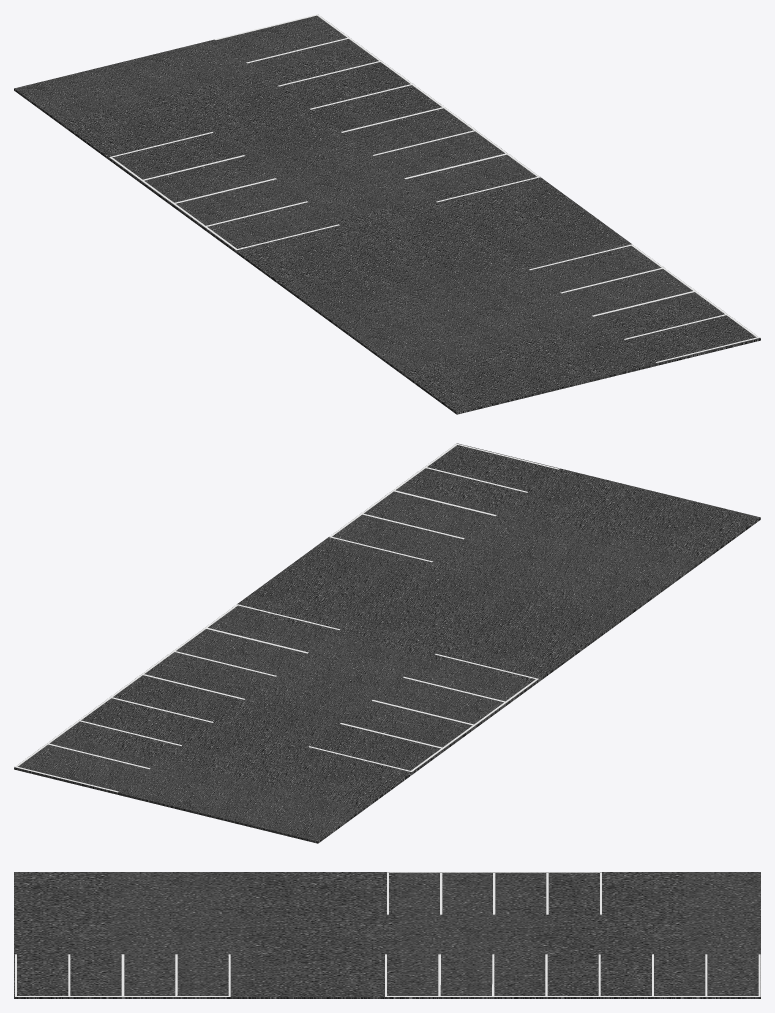
File: superMarketParkingLot.fbx
3 renders of one model, top to bottom at view 1: azimuth 30°, elevation 25°; view 2: azimuth 150°, elevation 25°; view 3: azimuth 270°, elevation 25°, orthographic. The views are drawn at different scales.
Visible parts, largest first — view 1: Plane; view 2: Plane; view 3: Plane, Plane.008, Plane.013, Plane.001, Plane.017.
Boxes of the visible parts, x1,y1,x2,y2 form: Plane: (14,15,760,414); Plane: (14,443,760,843); Plane: (14,872,760,998); Plane.008: (705,954,760,996); Plane.013: (175,954,230,996); Plane.001: (546,872,601,914); Plane.017: (68,954,123,996).
Size of the model in its own units: 1500 by 11 by 3784.
